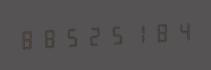eight: (17, 24, 38, 53), (39, 23, 60, 52), (149, 17, 170, 46)
five: (61, 22, 82, 51), (105, 20, 126, 48)
four: (171, 16, 192, 45)
one: (127, 18, 148, 47)
two: (83, 21, 104, 50)
